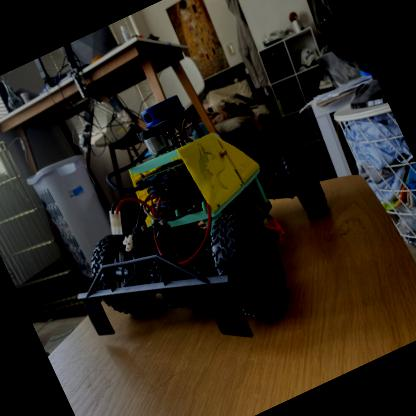mushr_car: (12, 50, 372, 400)
